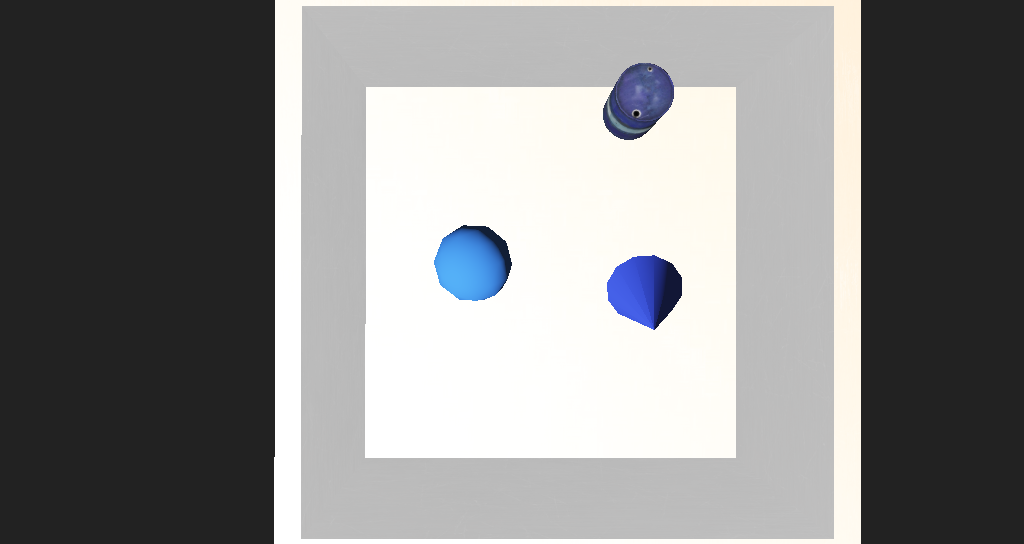cone: (546, 150, 600, 193)
cylinder: (546, 258, 627, 324)
sphere: (414, 239, 475, 286)
